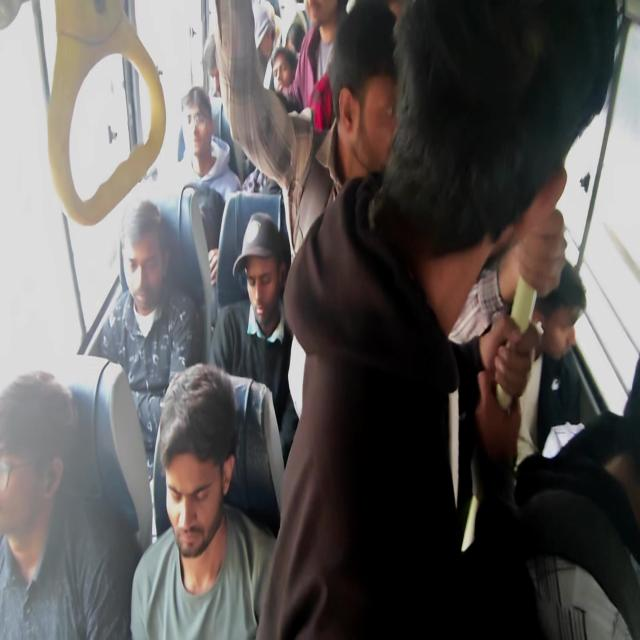person: (163, 389, 289, 640), (436, 0, 592, 180), (0, 357, 97, 602), (324, 16, 448, 171), (596, 364, 640, 608), (244, 218, 306, 353), (526, 245, 582, 348), (120, 248, 179, 338), (184, 92, 222, 194), (243, 7, 280, 61), (196, 46, 229, 95), (265, 57, 296, 109), (307, 0, 342, 37), (286, 15, 310, 54)
